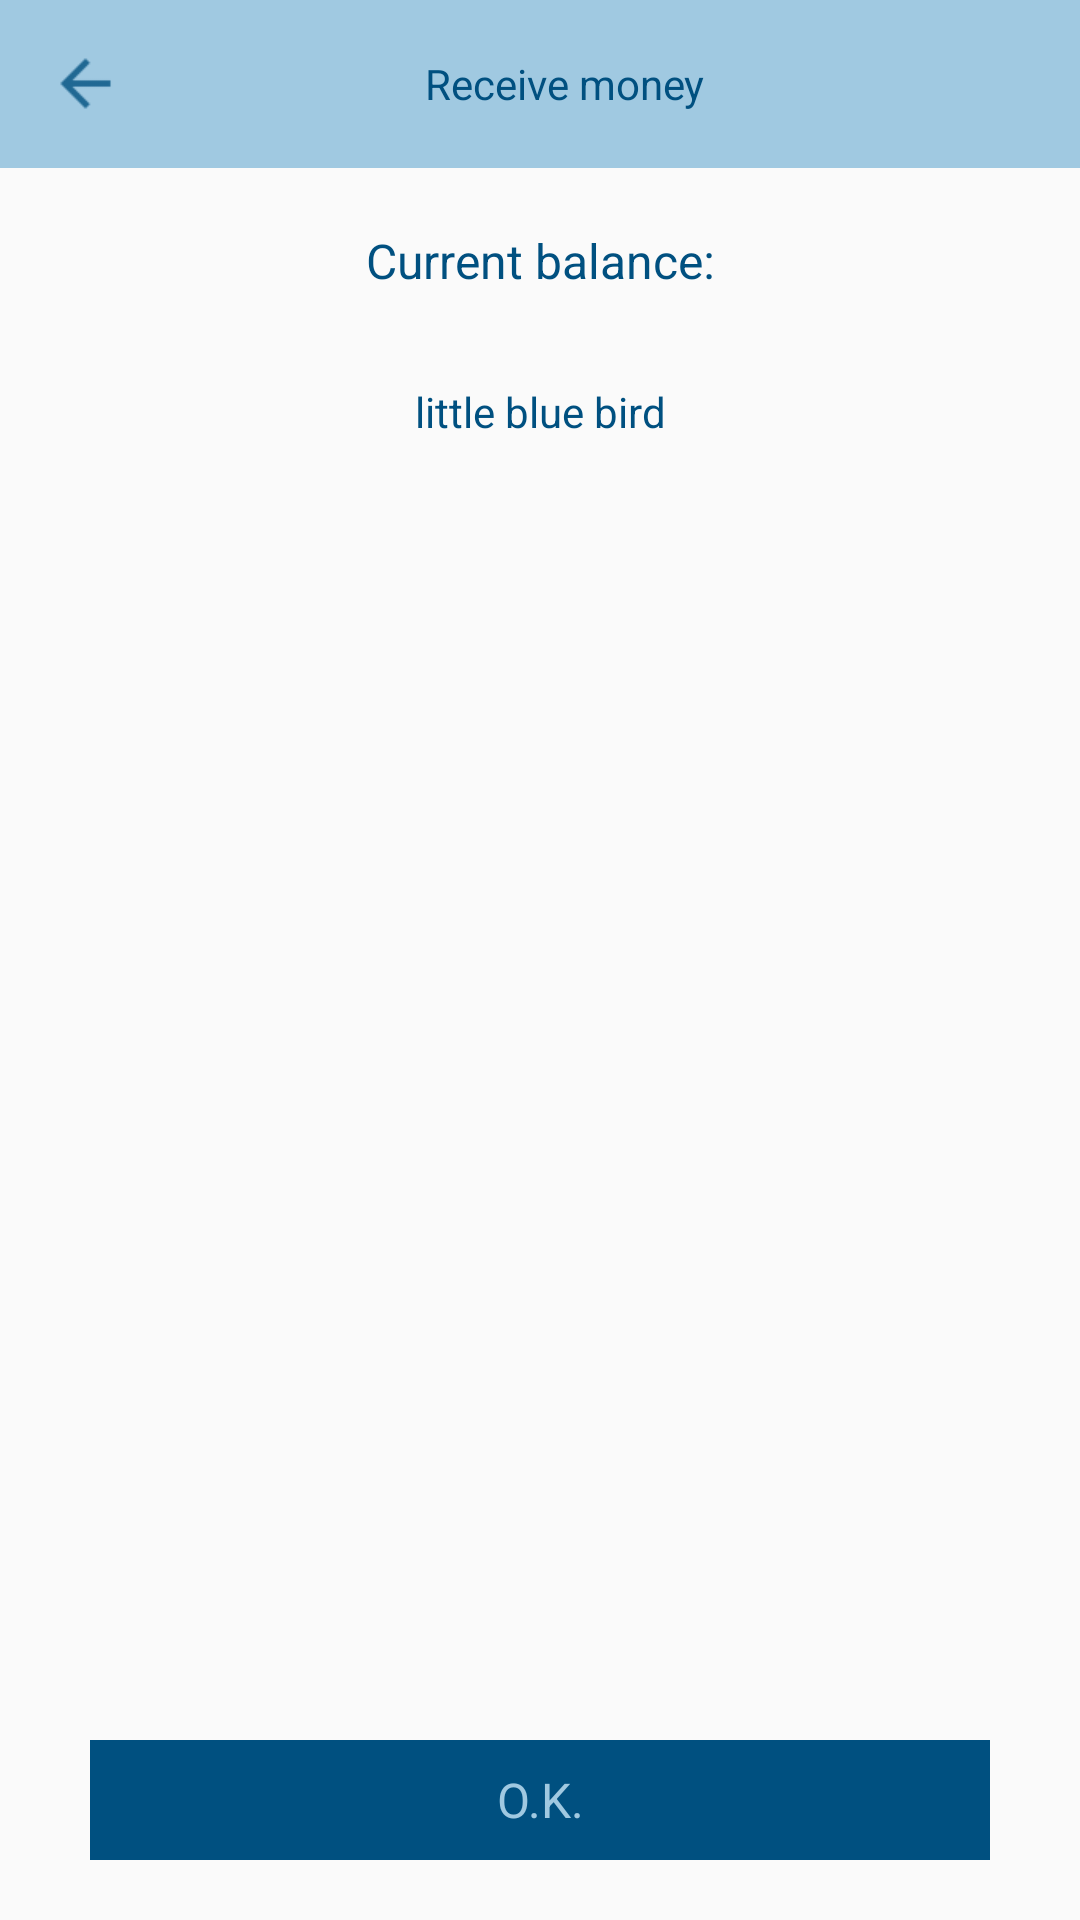

Point at icon controls on the screen. Image size 1080 x 1920, points as point (x, y).
arrow back: point (85, 83)
